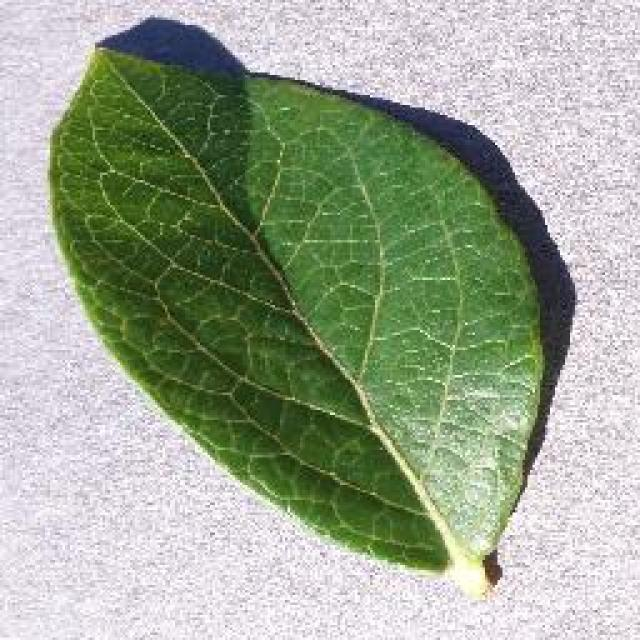Blu_healthy: (94, 89, 518, 500)
